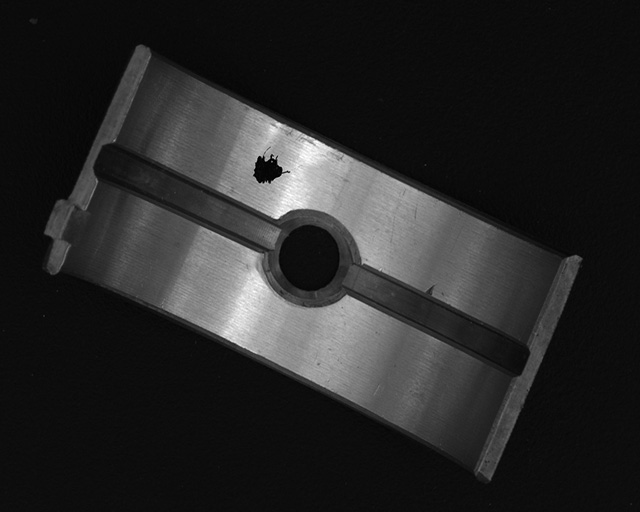blot: (252, 145, 291, 185)
bruise: (424, 284, 436, 297)
gap: (346, 262, 528, 374), (97, 143, 278, 248)
hole: (271, 215, 352, 303)
